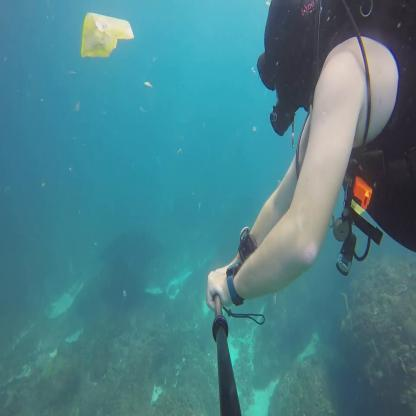Rác: (75, 8, 141, 67)
